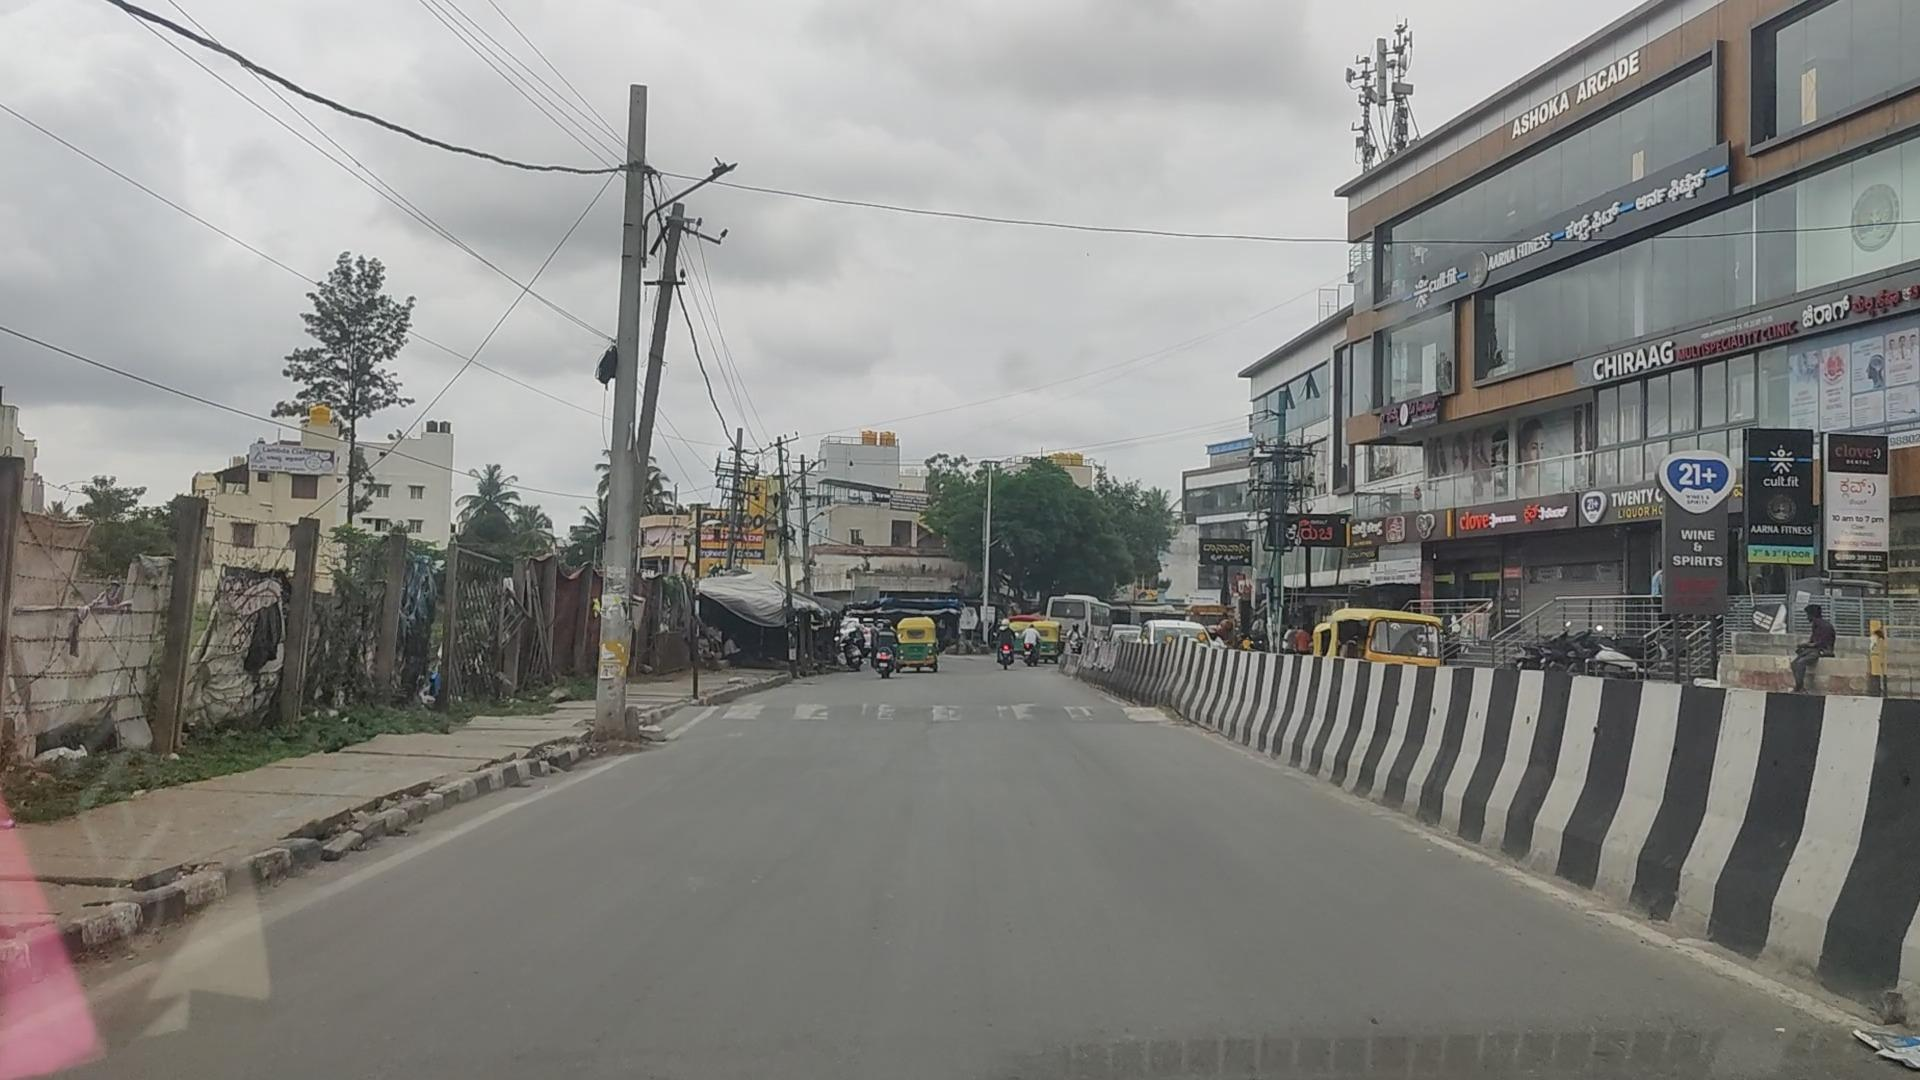LMV: (891, 620, 934, 670), (866, 621, 897, 671), (989, 624, 1015, 670)
SpeedBump: (727, 698, 1162, 731)
